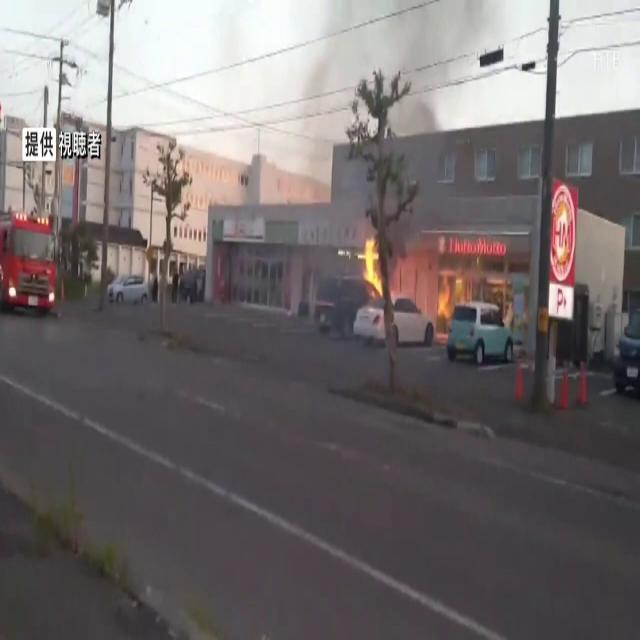Fire: (351, 233, 387, 300)
Smoke: (273, 0, 481, 246)
